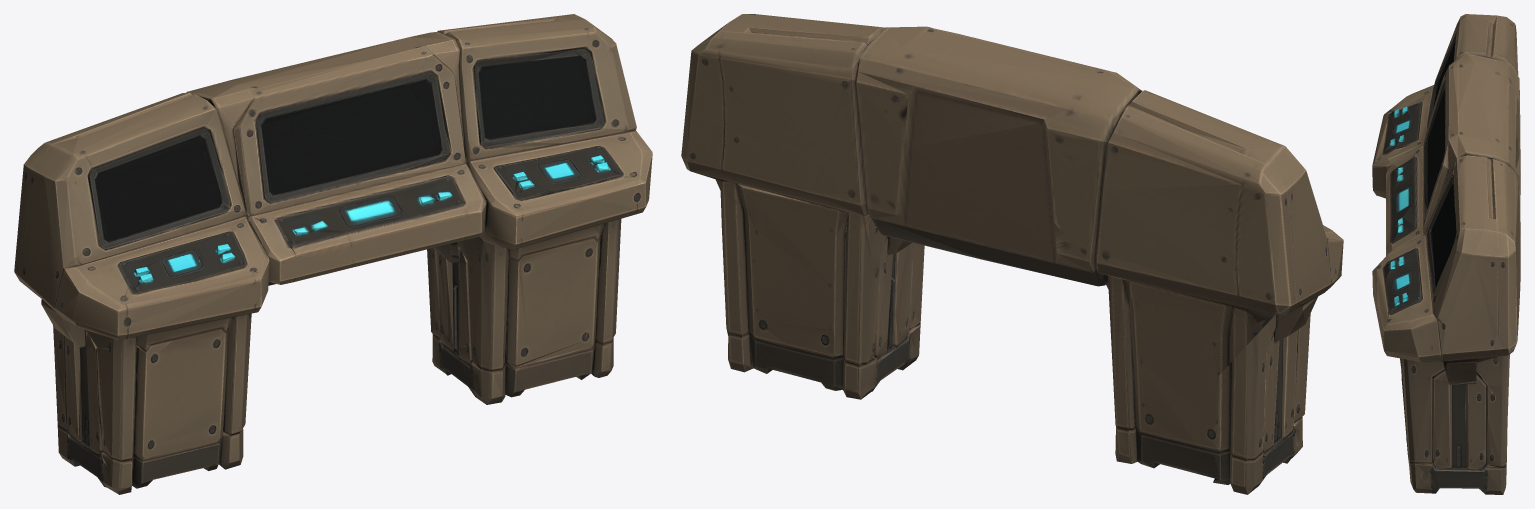
The model's file is pult-pilota.glb.
The picture shows the model from 3 angles, left to right: view 1: azimuth 30°, elevation 25°; view 2: azimuth 150°, elevation 25°; view 3: azimuth 270°, elevation 25°; orthographic projection. The views are drawn at different scales.
Visible parts, largest first — view 1: pult-pilota; view 2: pult-pilota; view 3: pult-pilota.
Boxes of the visible parts, bbox=[...] form: pult-pilota: bbox=[14, 14, 652, 494]; pult-pilota: bbox=[681, 14, 1343, 494]; pult-pilota: bbox=[1372, 14, 1520, 494].
Bounding box in the file's own units: 2.5 × 1.42 × 0.65.
Materials: 1 (1 with a texture image).
